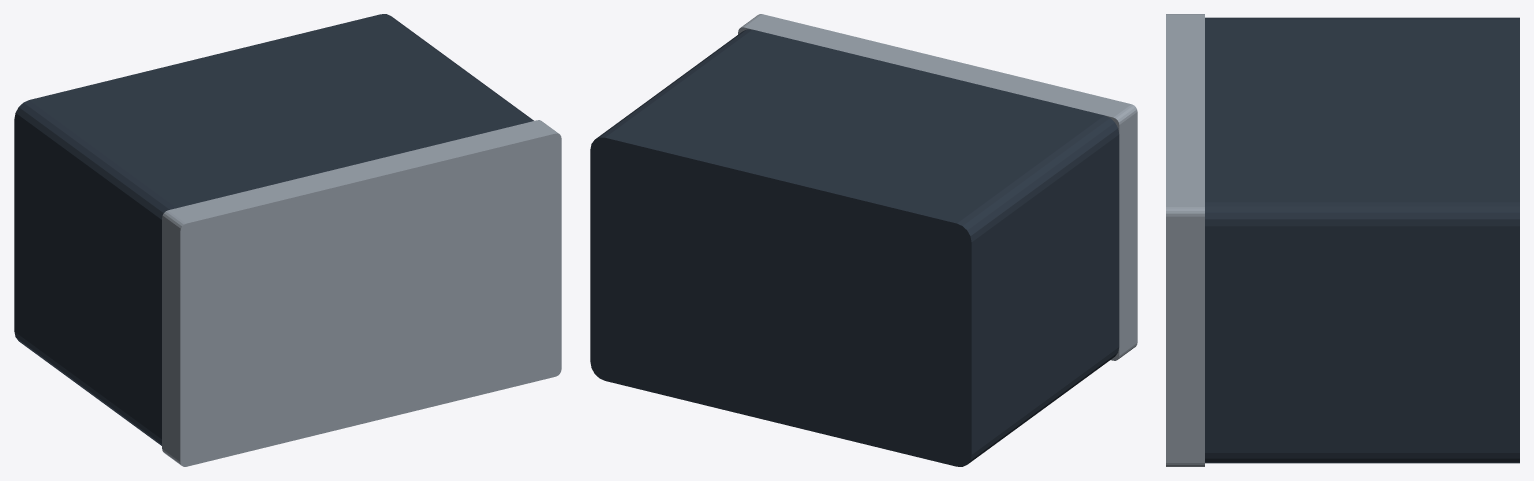
Rendered from beckman_coulter_biomek_i7_head_96.glb.
3 views of the same model, side by side, from view 1: azimuth 30°, elevation 25°; view 2: azimuth 150°, elevation 25°; view 3: azimuth 270°, elevation 25° (orthographic). The views are drawn at different scales.
Visible parts, largest first — view 1: beckman_coulter_biomek_i7_head_96; view 2: beckman_coulter_biomek_i7_head_96; view 3: beckman_coulter_biomek_i7_head_96.
Part boxes in pixels (left/top/right/bottom): beckman_coulter_biomek_i7_head_96: left=14, top=14, right=561, bottom=466; beckman_coulter_biomek_i7_head_96: left=590, top=14, right=1137, bottom=466; beckman_coulter_biomek_i7_head_96: left=1166, top=14, right=1519, bottom=466.
Size of the model in its own units: 0.1302 by 0.0794 by 0.0982.
